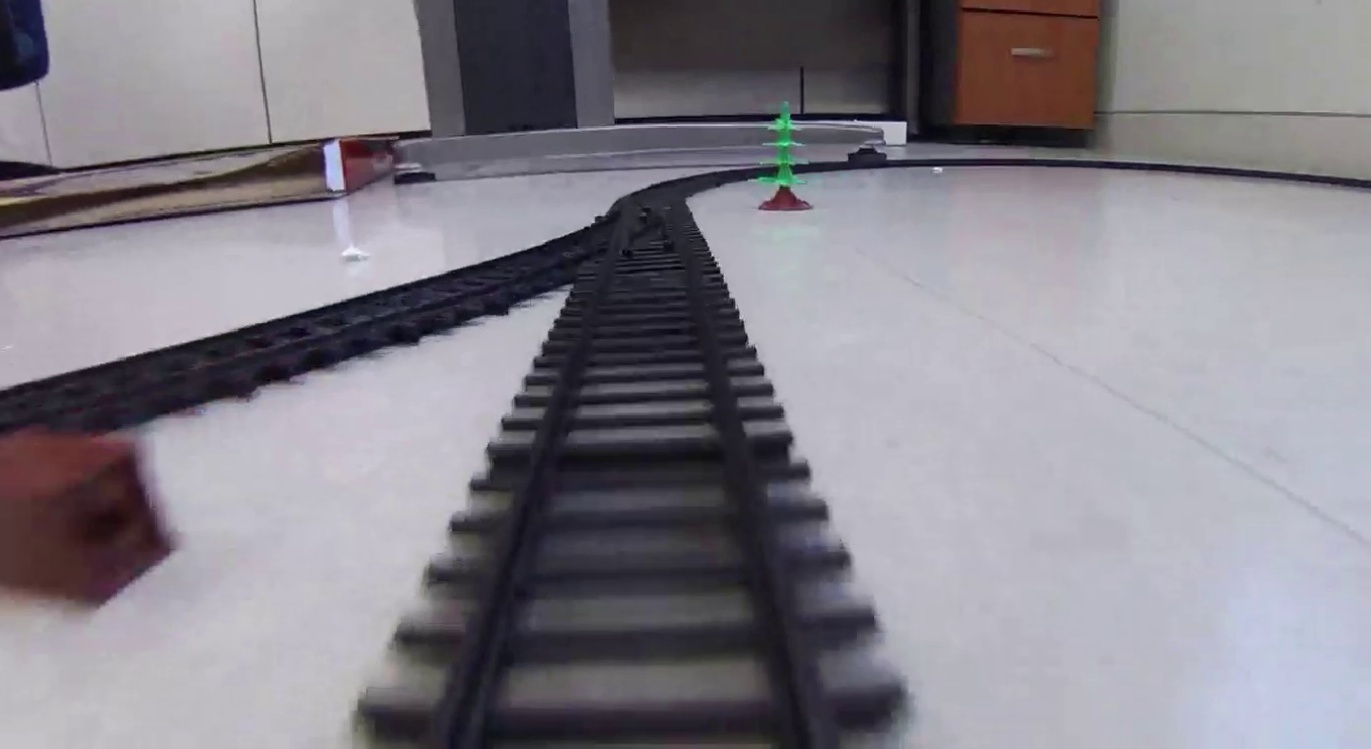box: (2, 432, 166, 607)
tree: (748, 99, 819, 213)
